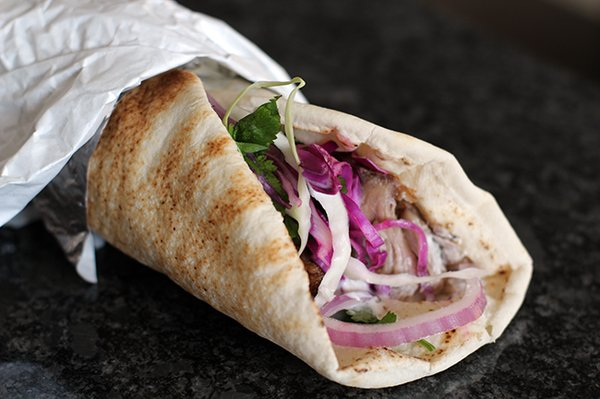soup: (82, 68, 524, 388)
